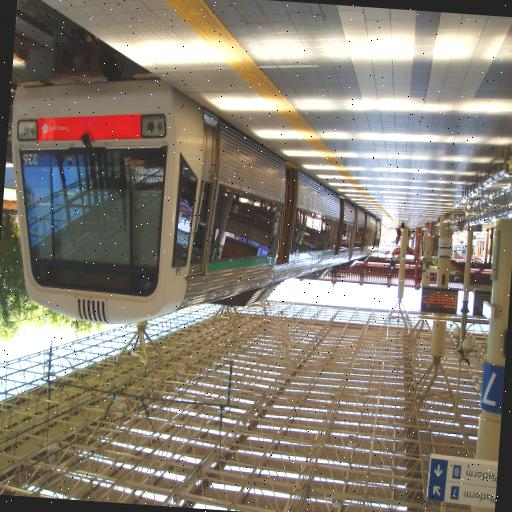platform_edge: (24, 0, 405, 205)
